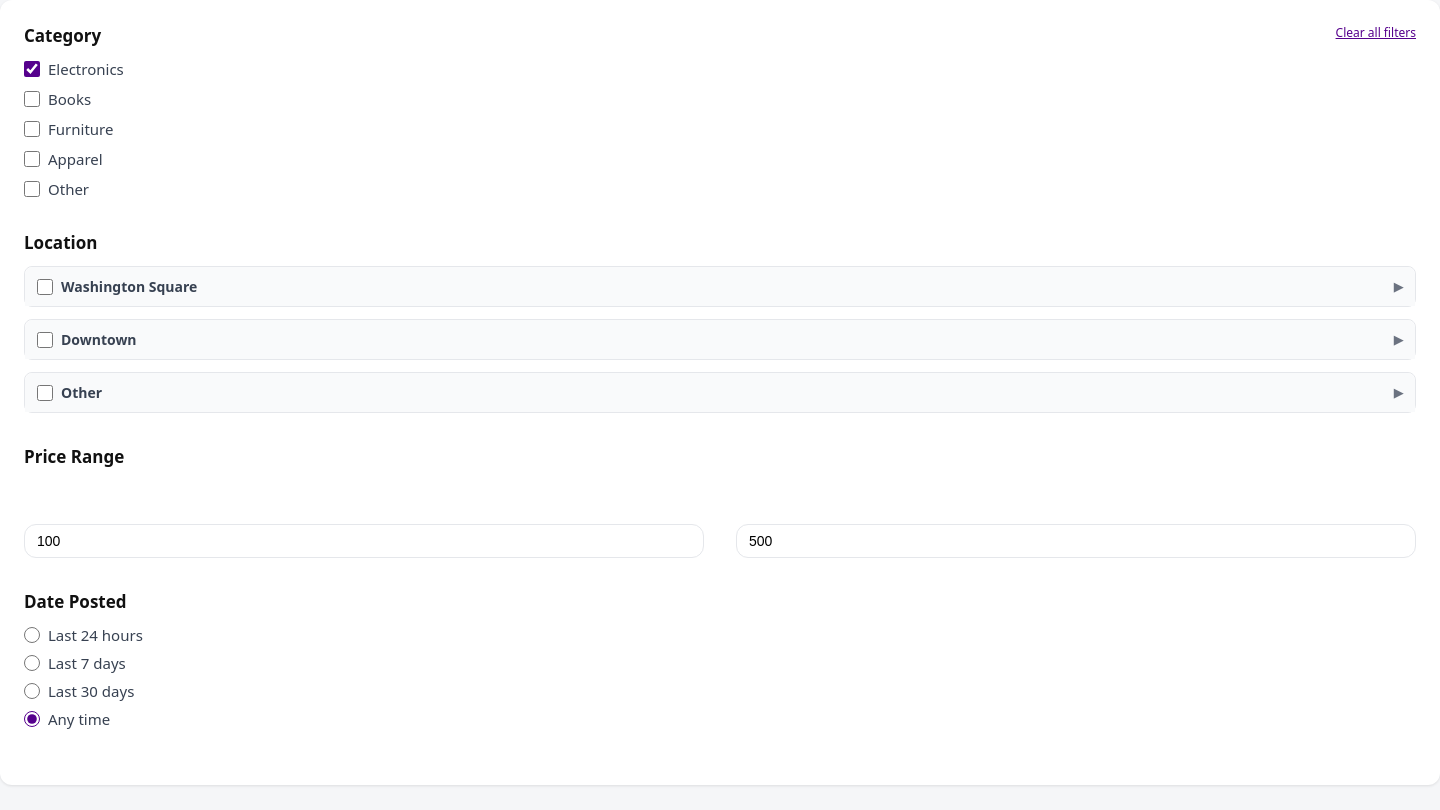
Test: Filters › clears all filters including price inputs and errors
This screenshot has width=1440, height=810.
// Set a validation error first
Step 1. Replace the text in the number field labelled "Min price" with "-10" → (364, 541), box x1=24 y1=524 x2=704 y2=558
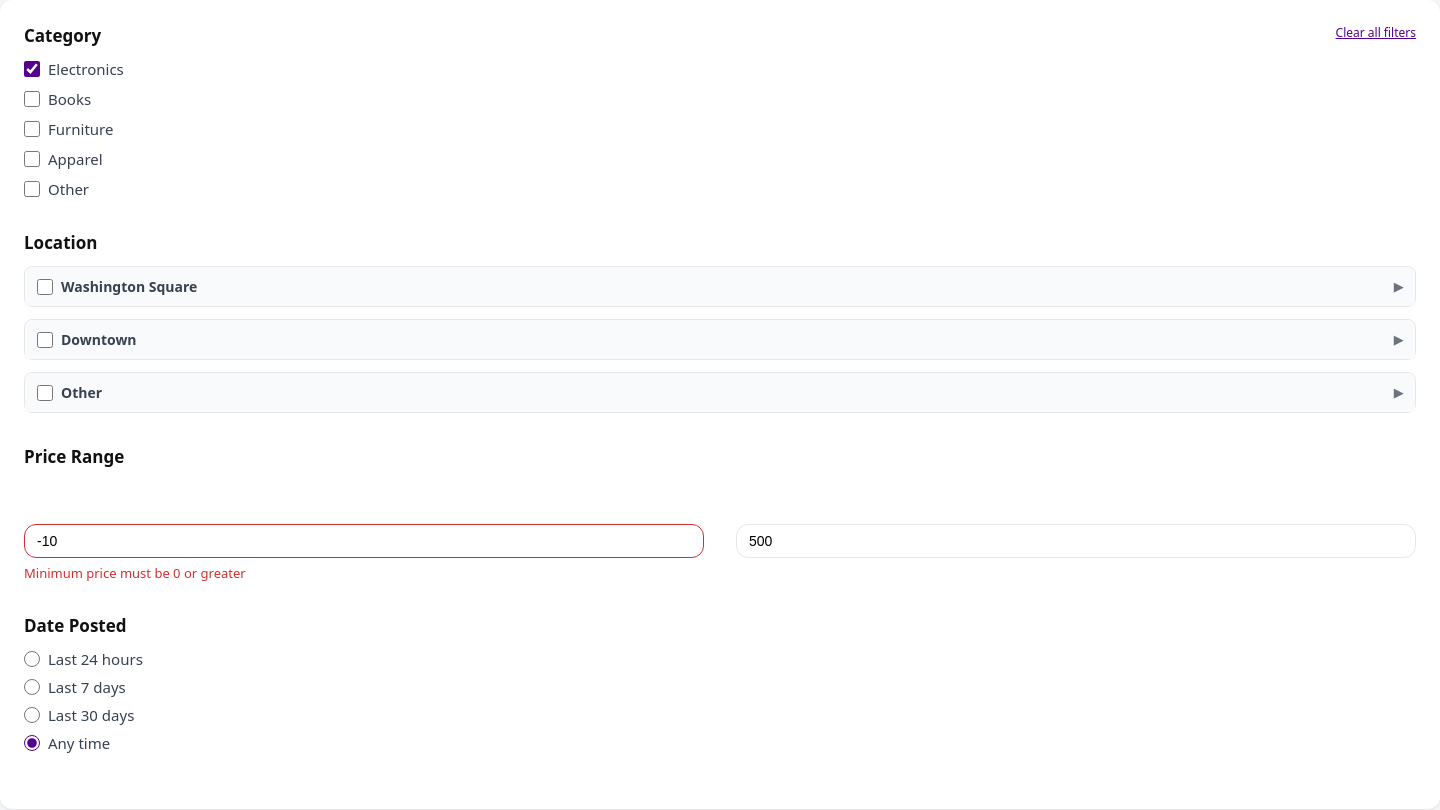
Expected: the text "Minimum price must be 0 or greater" is shown, x1=24 y1=564 x2=246 y2=582
// Clear all
Step 2. Click the button "Clear all filters" → (1376, 32), box x1=1336 y1=24 x2=1416 y2=41
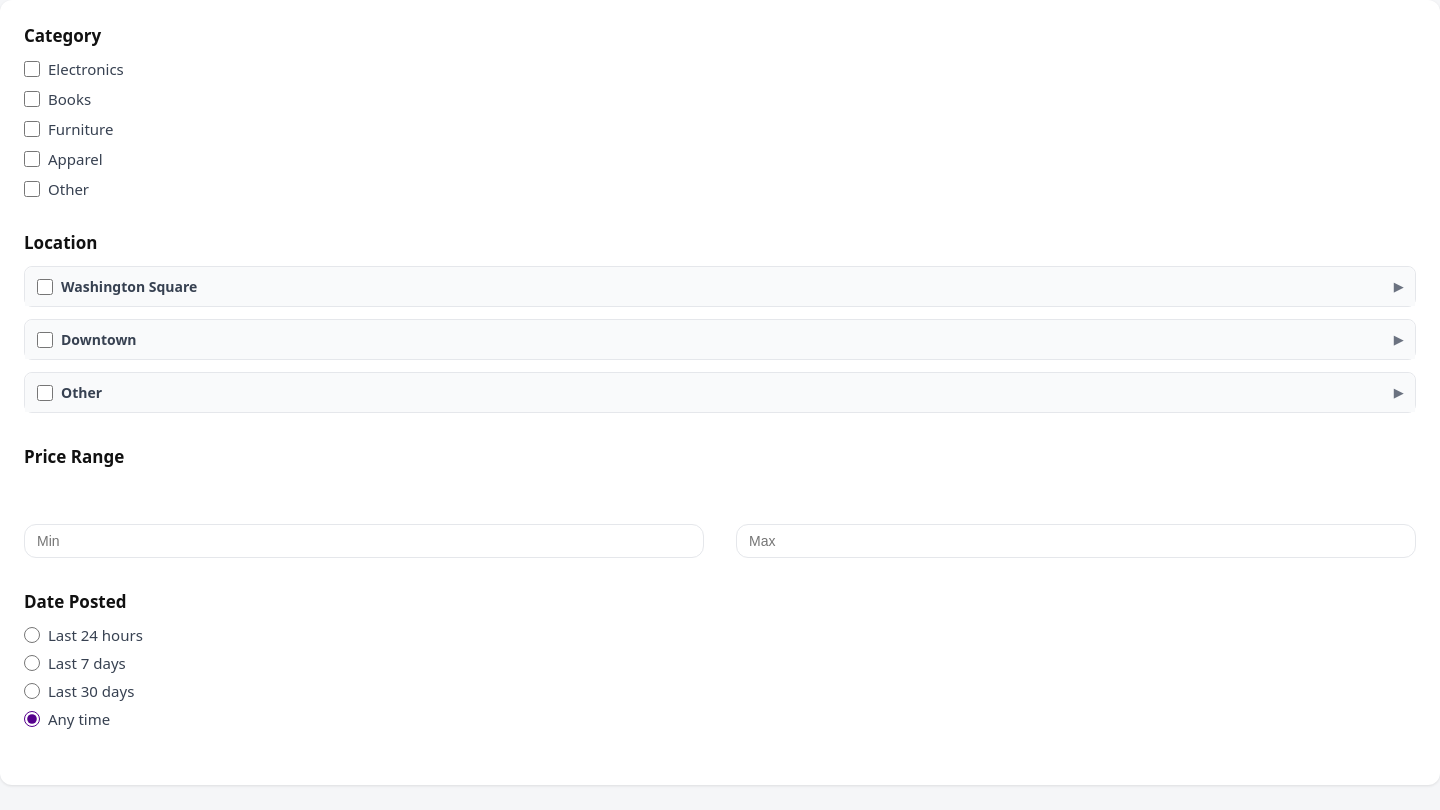
Expected: the number field labelled "Min price" is not empty, x1=24 y1=524 x2=704 y2=558
Expected: the number field labelled "Max price" is not empty, x1=736 y1=524 x2=1416 y2=558
Expected: the text "Minimum price must be 0 or greater" is gone
